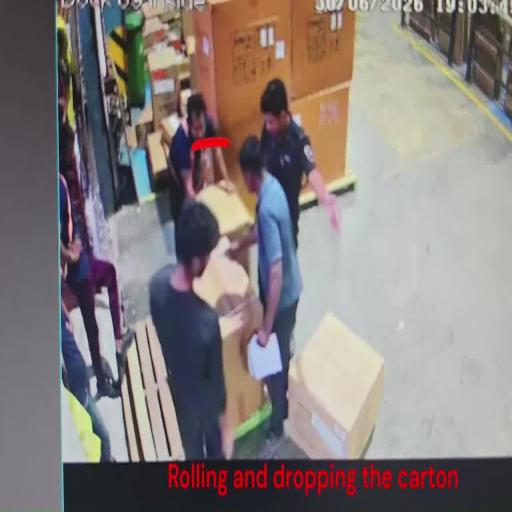carton: (180, 2, 291, 142), (284, 308, 386, 460), (193, 250, 264, 434), (290, 4, 356, 100), (194, 180, 258, 267), (300, 86, 351, 194), (214, 131, 268, 217), (136, 127, 170, 184), (150, 68, 178, 132), (150, 43, 182, 76), (158, 111, 184, 146), (178, 90, 188, 122)
pallet: (112, 314, 179, 462)
person: (217, 134, 304, 458), (148, 200, 234, 460), (58, 171, 134, 400), (259, 80, 341, 244), (167, 93, 236, 255), (59, 275, 117, 463)
